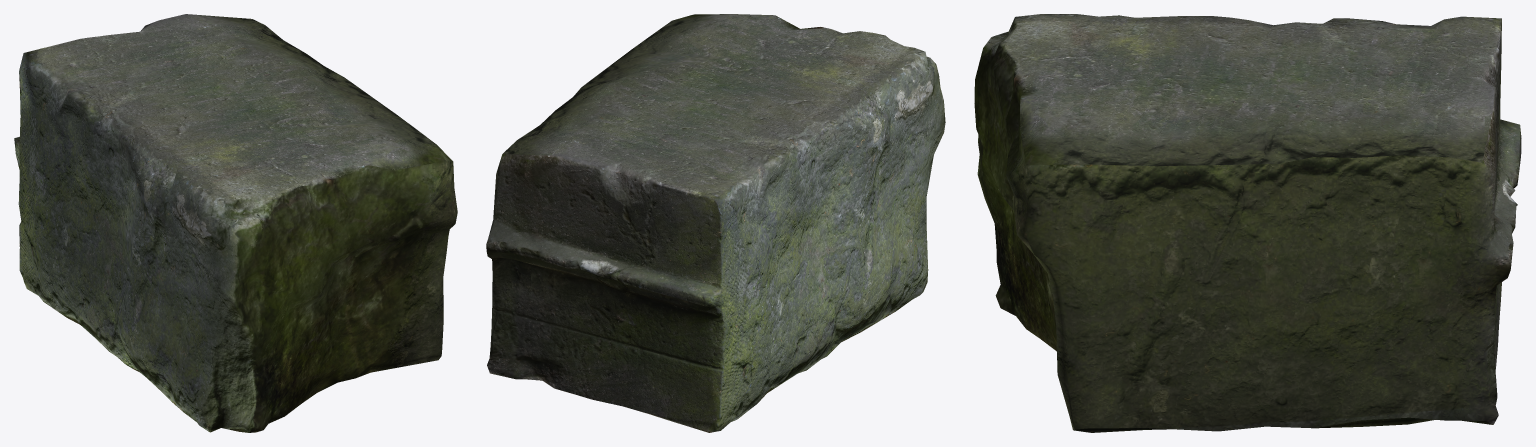
Rendered from sm_GraveDebris_08_01.fbx.
3 views of the same model, side by side, from view 1: azimuth 30°, elevation 25°; view 2: azimuth 150°, elevation 25°; view 3: azimuth 270°, elevation 25° (orthographic). The views are drawn at different scales.
Visible parts, largest first — view 1: sm_GraveDebris_08_01_LOD0; view 2: sm_GraveDebris_08_01_LOD0; view 3: sm_GraveDebris_08_01_LOD0.
Boxes of the visible parts, x1=… form: sm_GraveDebris_08_01_LOD0: x1=14, y1=14, x2=457, y2=432; sm_GraveDebris_08_01_LOD0: x1=486, y1=14, x2=945, y2=432; sm_GraveDebris_08_01_LOD0: x1=974, y1=14, x2=1521, y2=432.
Bounding box in the file's own units: 54.78 × 81.81 × 46.97.
